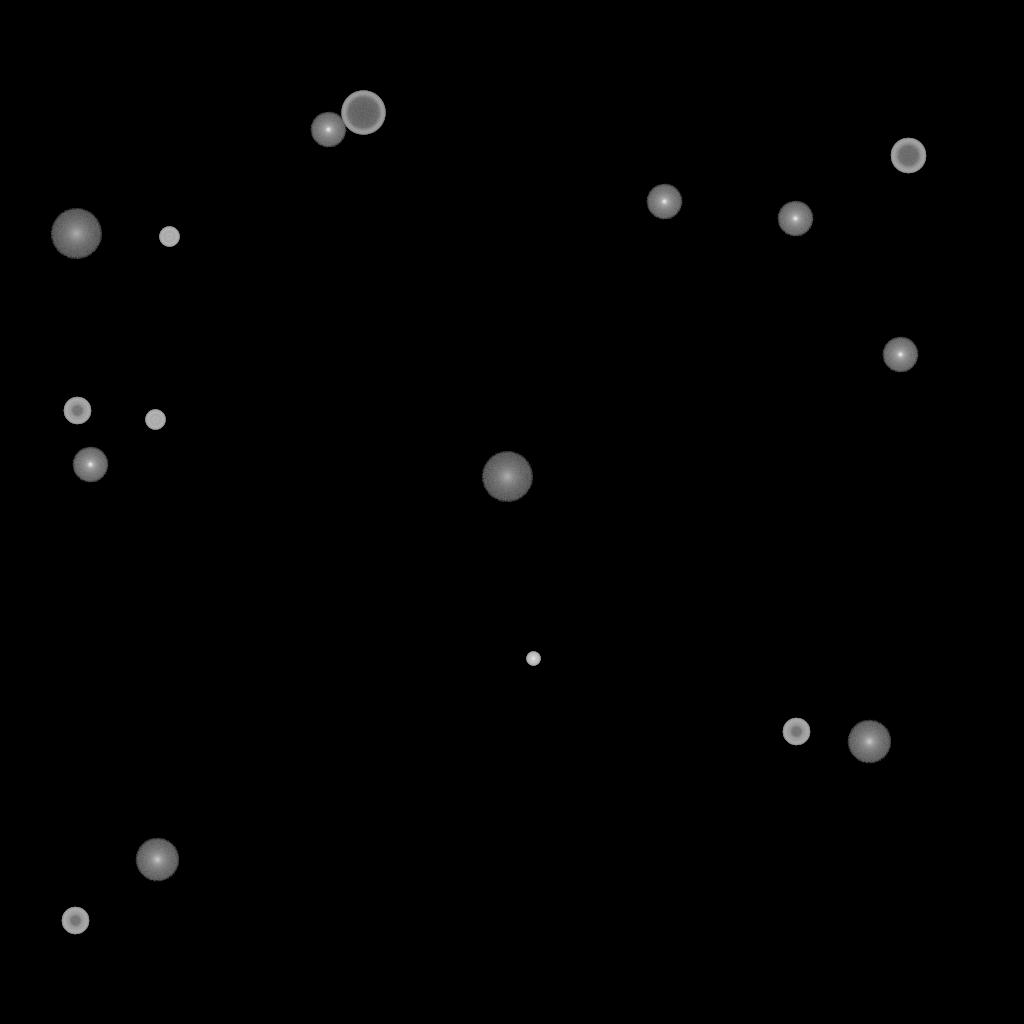depth:-30: (526, 652, 540, 666)
depth:-40: (145, 410, 165, 430), (159, 227, 179, 247)
depth:-50: (63, 397, 91, 425), (782, 718, 810, 746), (61, 907, 89, 935)
depth:-60: (890, 138, 926, 174)
depth:-70: (341, 91, 385, 135)
depth:0: (310, 112, 346, 148), (646, 184, 682, 220), (72, 447, 108, 483), (777, 201, 813, 237), (882, 337, 918, 373)
depth:10: (847, 720, 891, 764), (135, 838, 179, 882)
depth:20: (481, 452, 533, 502), (50, 209, 102, 259)
